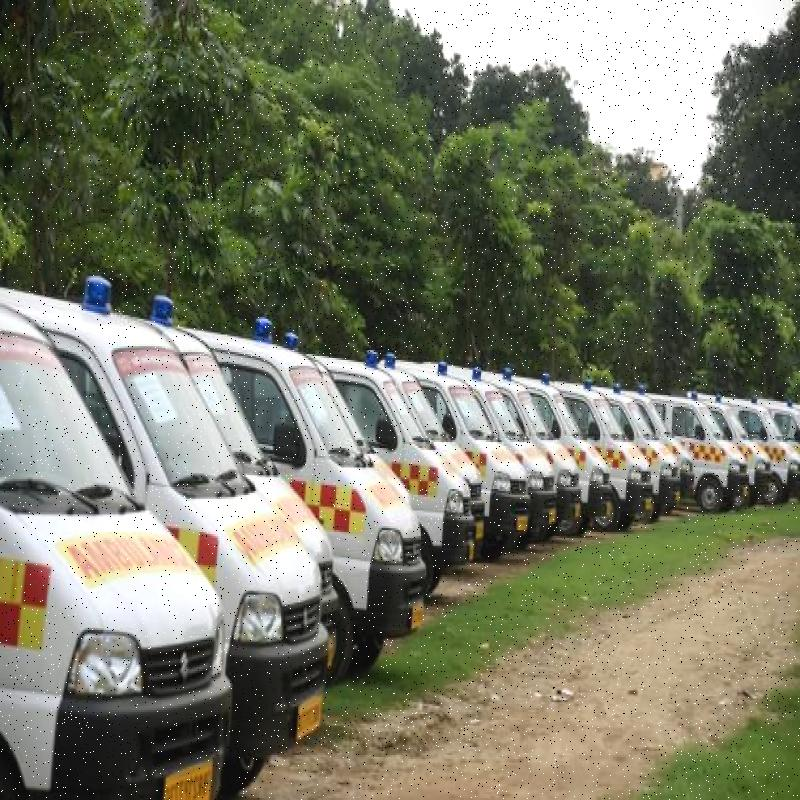ambulance: (0, 333, 266, 800), (305, 386, 428, 694)
